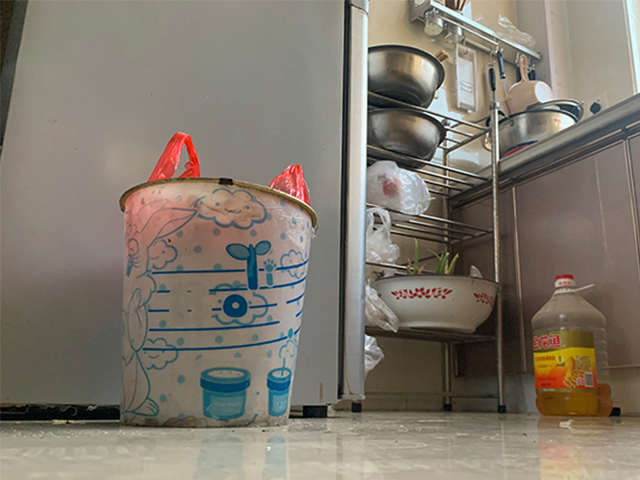cabinet: (499, 91, 640, 418)
trashcan: (118, 176, 320, 429)
